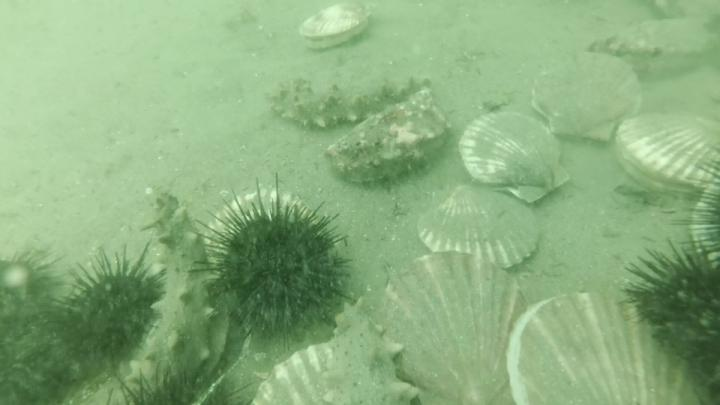echinus: (191, 173, 357, 354), (618, 233, 720, 405), (47, 243, 168, 372), (99, 360, 253, 405), (1, 245, 68, 342), (679, 161, 720, 275)
holothurian: (123, 188, 225, 380), (322, 300, 423, 405), (265, 73, 436, 132)
scallop: (355, 248, 536, 405), (506, 288, 720, 405), (416, 178, 543, 273), (459, 109, 575, 207), (530, 48, 648, 144), (612, 110, 720, 199), (206, 187, 313, 268), (250, 339, 338, 405), (299, 1, 375, 54), (691, 166, 720, 275), (208, 296, 238, 382)
